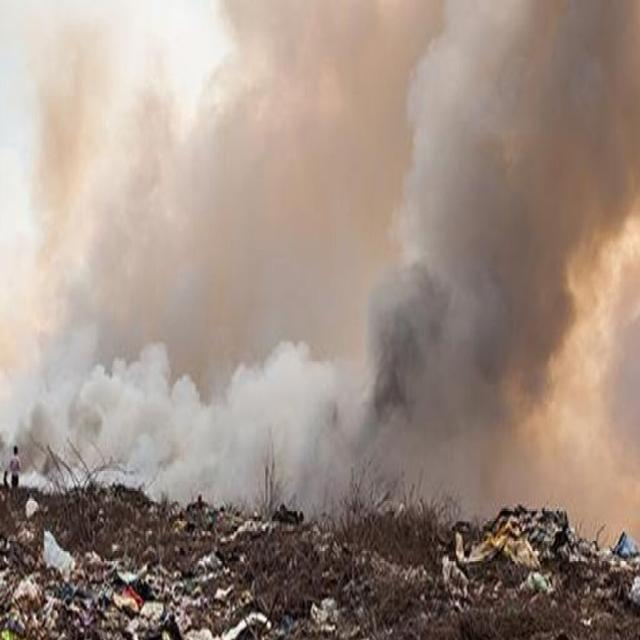Smoke: (0, 0, 631, 536)
